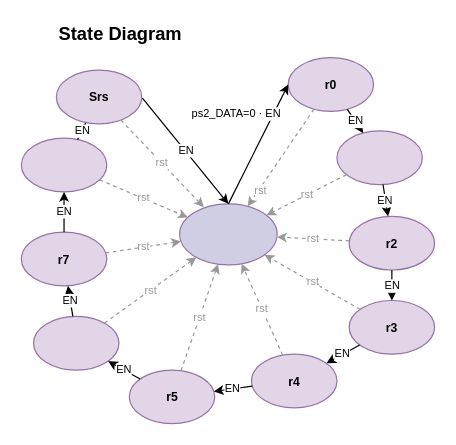
Image size: 456x445. Some labels were removed from this diagram. Each missing label, with the centre of its shape:
Idle: point (227, 234)
r1: point (379, 157)
r6: point (75, 342)
Srp: point (63, 164)
